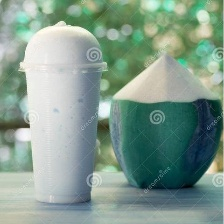glass: (11, 18, 112, 208)
